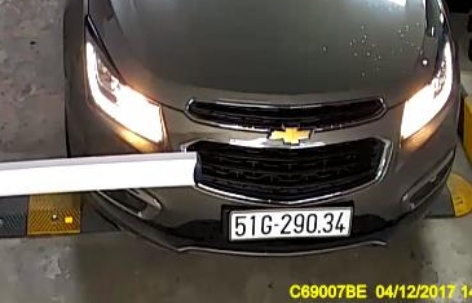plate: (228, 202, 358, 244)
